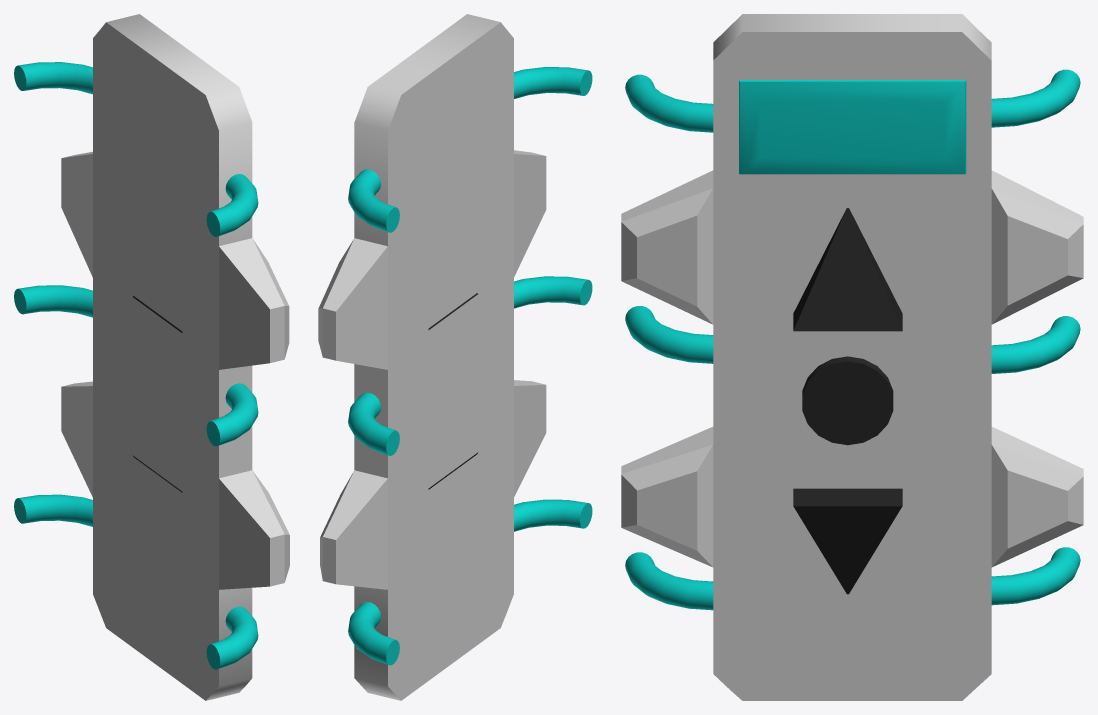
Rendered from Elevator_Panel.FBX.
3 renders of one model, left to right at view 1: azimuth 30°, elevation 25°; view 2: azimuth 150°, elevation 25°; view 3: azimuth 270°, elevation 25°, orthographic. The views are drawn at different scales.
Parts seen in each view (by area): view 1: Box003; view 2: Box003; view 3: Box003.
Boxes of the visible parts, x1,y1,x2,y2 form: Box003: [14, 14, 289, 700]; Box003: [318, 14, 592, 700]; Box003: [621, 14, 1083, 700].
Bounding box in the file's own units: 5.91 × 32.42 × 20.32.
